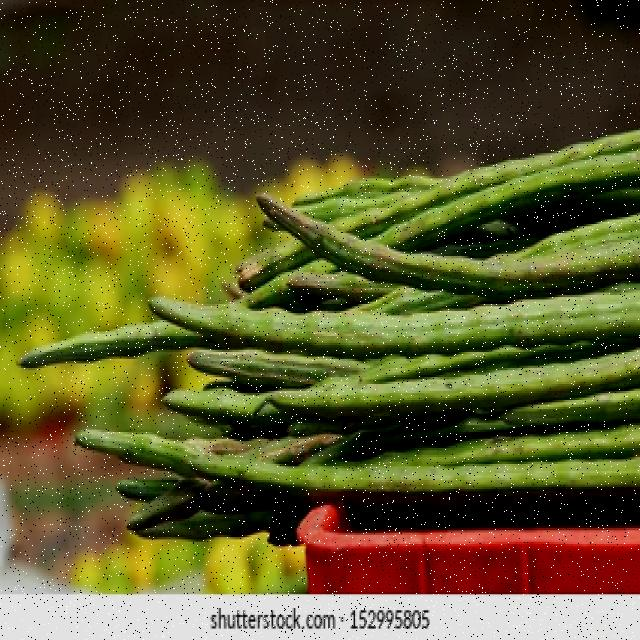Moringa Drumsticks: (193, 181, 640, 518)
